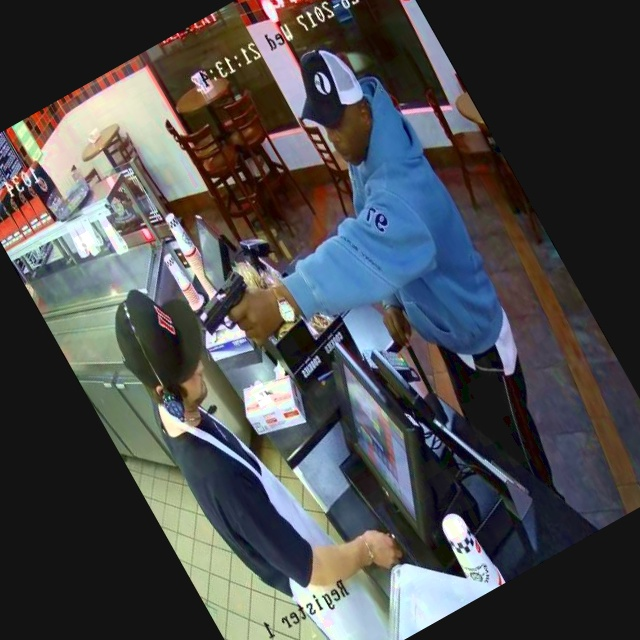gun: (171, 249, 278, 353)
